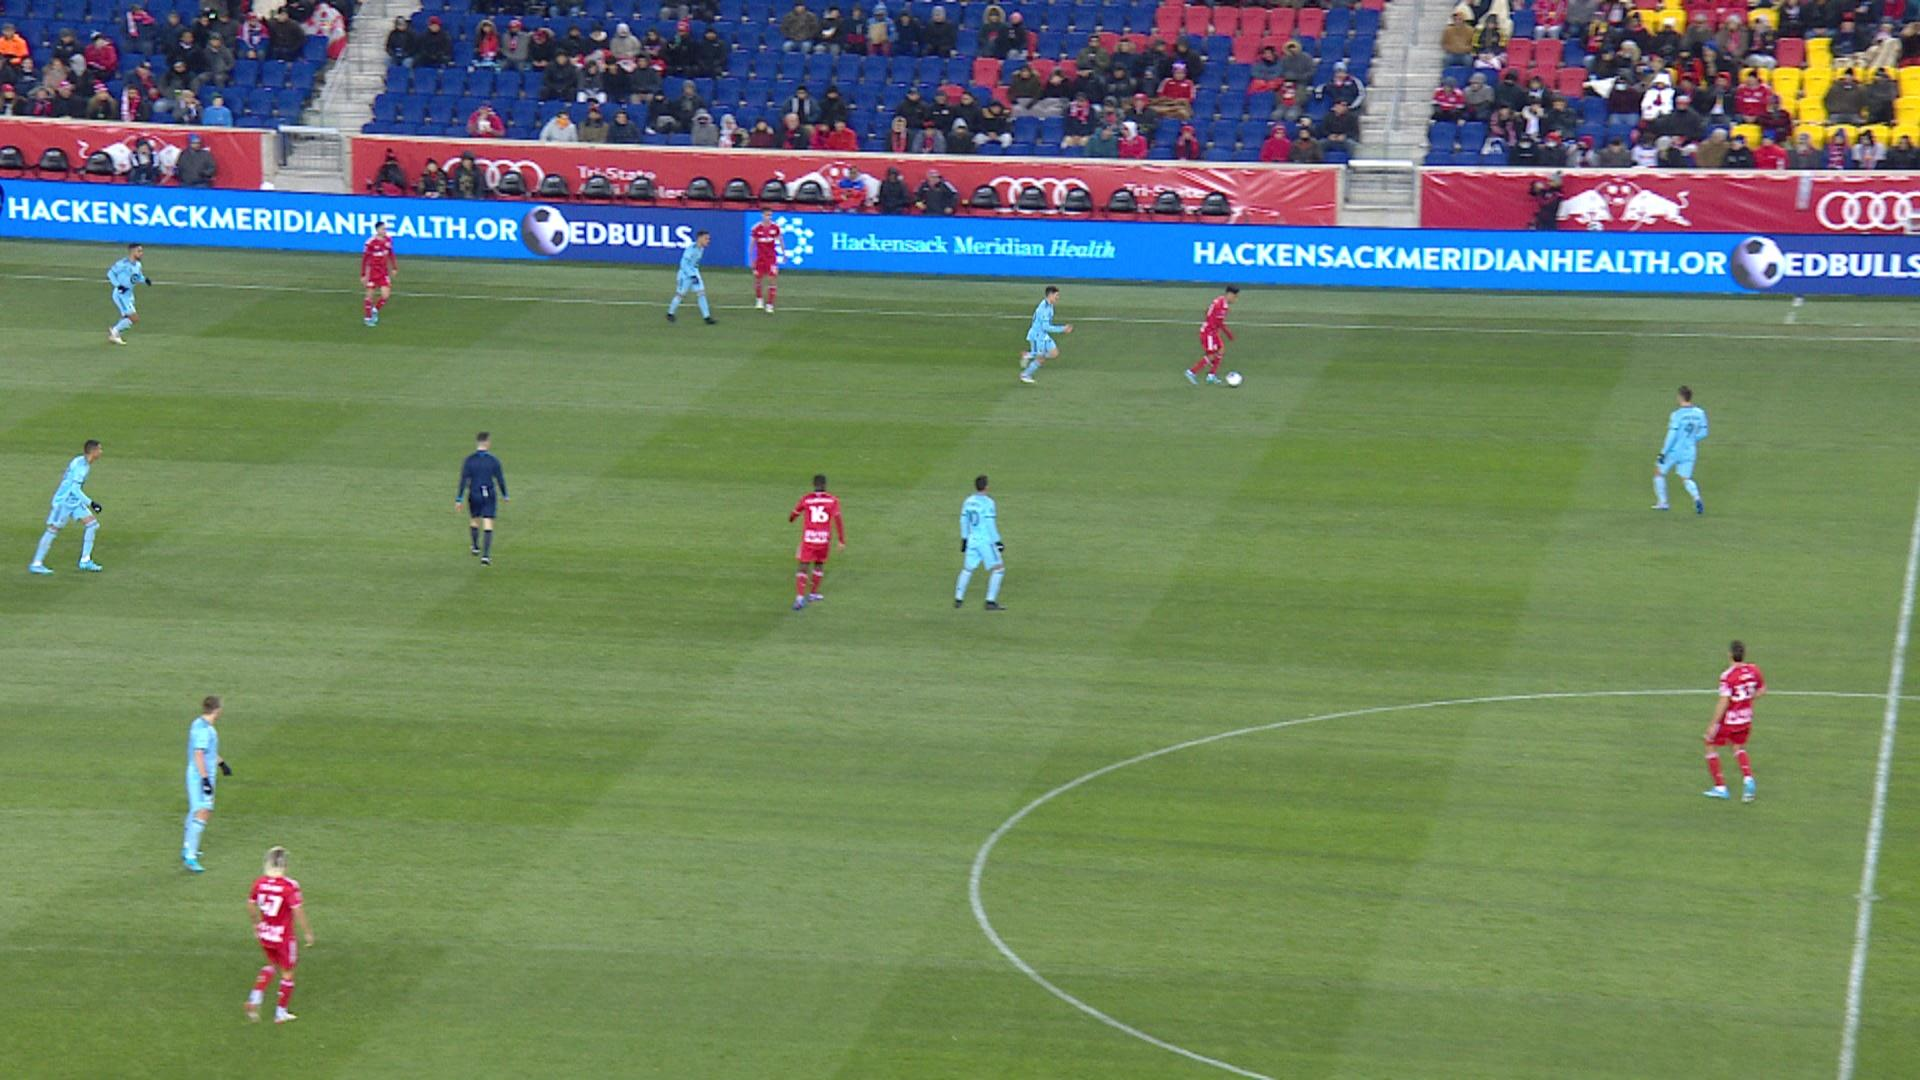football: (1226, 370, 1243, 388)
